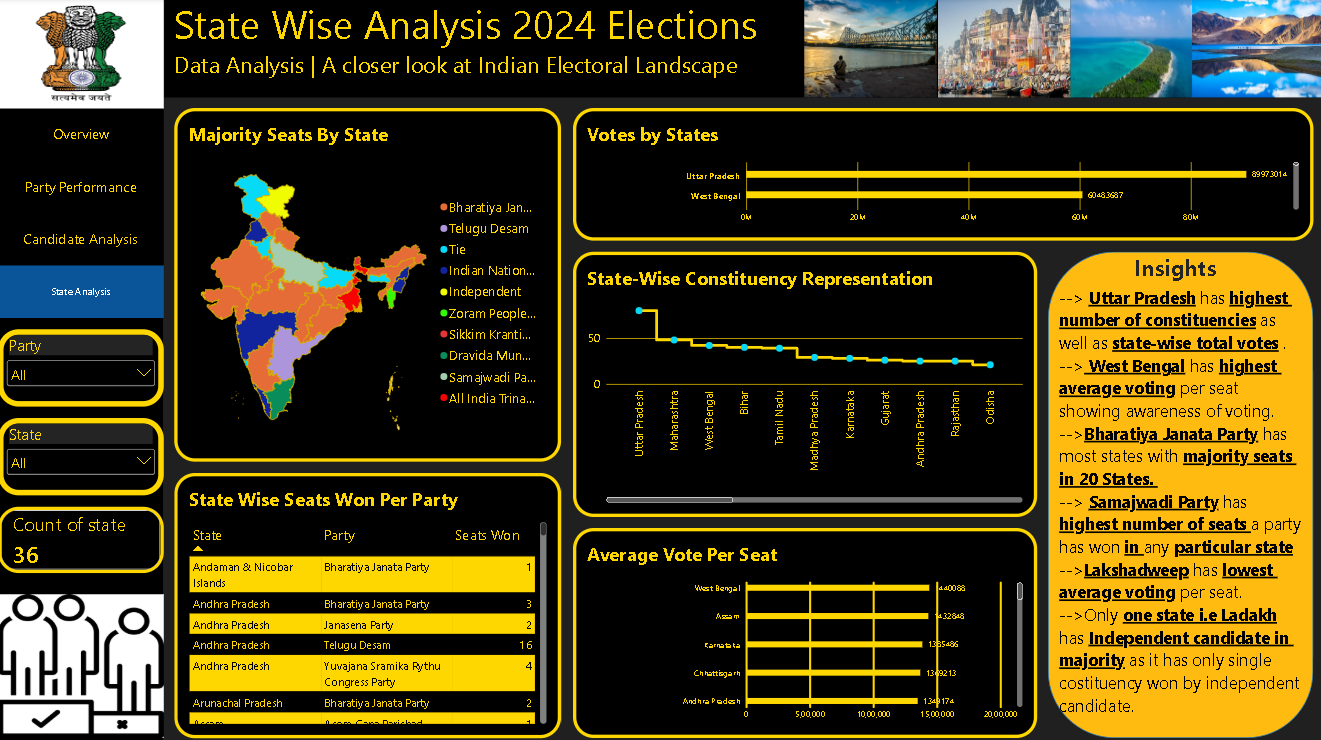

This screenshot's page, from the dashboard's own definition file:
{"tool":"powerbi","page":{"name":"State Analysis","canvas":[1920,1080],"ordinal":3},"visuals":[{"type":"shape","box":[0,-8,240,1088],"z":0},{"type":"shape","box":[240,0,1680,144],"z":1000},{"type":"shape","box":[1520,368,384,704],"z":2000},{"type":"textbox","box":[256,0,880,160],"z":3000},{"type":"shapeMap","title":"Majority Seats By State","fields":{"Category":["statewise_party_majority.state"],"Series":["statewise_party_majority.Majority"]},"box":[256,160,560,512],"z":4000},{"type":"slicer","fields":{"Values":["constituency.party"]},"box":[0,480,240,112],"z":5000},{"type":"pageNavigator","box":[0,160,240,304],"z":6000},{"type":"tableEx","title":"State Wise Seats Won Per Party","fields":{"Values":["statewise_performance.state","statewise_performance.party","Sum(statewise_performance.Seats_Won)"]},"box":[256,688,560,384],"z":7000},{"type":"lineChart","title":"State-Wise Constituency Representation","fields":{"Category":["state_cons_representation.State"],"Y":["Sum(state_cons_representation.Total_Constituencies)"]},"box":[832,368,672,384],"z":8000},{"type":"slicer","fields":{"Values":["statewise_party_majority.state"]},"box":[0,608,240,112],"z":9000},{"type":"clusteredBarChart","title":"Votes by States","fields":{"Category":["state_wise_vote_count_demo.state"],"Y":["Sum(state_wise_vote_count_demo.Votes)"]},"box":[832,160,1072,192],"z":10000},{"type":"barChart","title":"Average Vote Per Seat","fields":{"Category":["avg_vote_per_seat_statewise.state"],"Y":["Sum(avg_vote_per_seat_statewise.vps)"]},"box":[832,768,672,304],"z":11000},{"type":"textbox","box":[1552,368,304,48],"z":12000},{"type":"textbox","box":[1536,416,352,640],"z":13000},{"type":"cardVisual","fields":{"Data":["Count(statewise_party_majority.state)"]},"box":[0,736,240,96],"z":14000},{"type":"image","box":[1728,0,192,144],"z":14001},{"type":"image","box":[1360,0,192,144],"z":14002},{"type":"image","box":[1552,0,176,144],"z":14003},{"type":"image","box":[1168,0,192,144],"z":14004},{"type":"image","box":[0,864,240,208],"z":14005},{"type":"image","box":[0,0,240,160],"z":14006}]}

Visuals, with their boxes on the page's 1920x1080 design canvas (x1, y1, x2, y2). These are canvas units, not pixel positions in the 1321x740 screenshot, which may show the page scaled, cropped or inside an application window:
shape: x1=0 y1=-8 x2=240 y2=1080
shape: x1=240 y1=0 x2=1920 y2=144
shape: x1=1520 y1=368 x2=1904 y2=1072
textbox: x1=256 y1=0 x2=1136 y2=160
"Majority Seats By State" shapeMap: x1=256 y1=160 x2=816 y2=672
slicer - constituency.party: x1=0 y1=480 x2=240 y2=592
pageNavigator: x1=0 y1=160 x2=240 y2=464
"State Wise Seats Won Per Party" tableEx: x1=256 y1=688 x2=816 y2=1072
"State-Wise Constituency Representation" lineChart: x1=832 y1=368 x2=1504 y2=752
slicer - statewise_party_majority.state: x1=0 y1=608 x2=240 y2=720
"Votes by States" clusteredBarChart: x1=832 y1=160 x2=1904 y2=352
"Average Vote Per Seat" barChart: x1=832 y1=768 x2=1504 y2=1072
textbox: x1=1552 y1=368 x2=1856 y2=416
textbox: x1=1536 y1=416 x2=1888 y2=1056
cardVisual - Count(statewise_party_majority.state): x1=0 y1=736 x2=240 y2=832
image: x1=1728 y1=0 x2=1920 y2=144
image: x1=1360 y1=0 x2=1552 y2=144
image: x1=1552 y1=0 x2=1728 y2=144
image: x1=1168 y1=0 x2=1360 y2=144
image: x1=0 y1=864 x2=240 y2=1072
image: x1=0 y1=0 x2=240 y2=160
